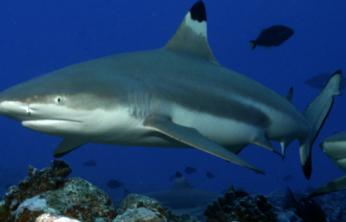Shark -Selachimorpha-: (0, 0, 341, 179)
